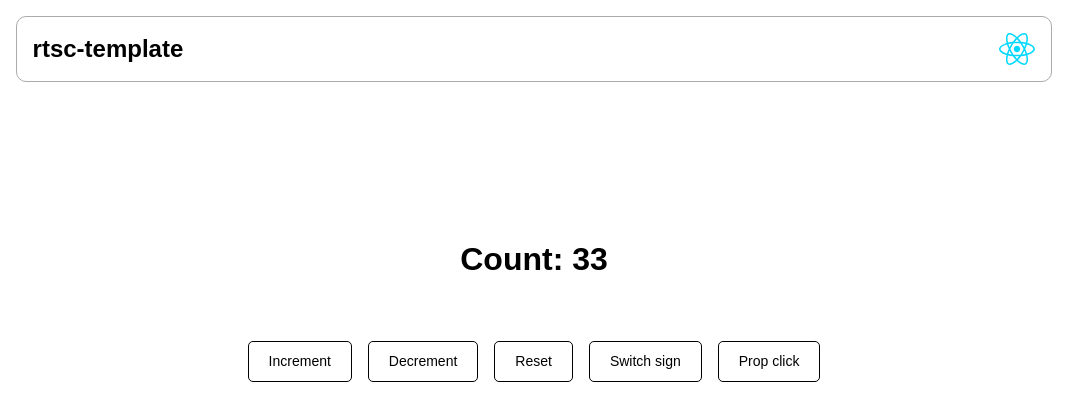
Test: Counter › Count should reset to 0 if the Reset button is clicked
The width and height of the screenshot is (1069, 399).
Check: the text with test id "count" reads "33", box [572,241,608,277]
Click the button "Reset" at (534, 361), box [494,341,573,382]
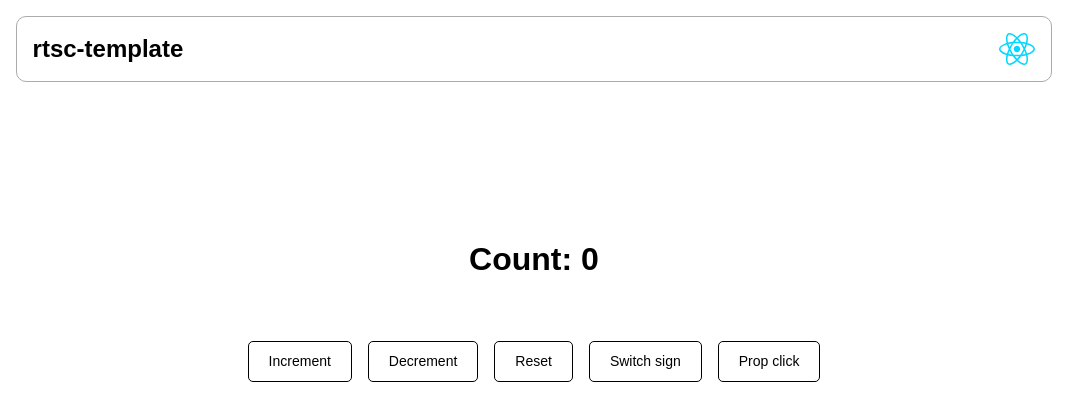
Check: the text with test id "count" reads "0", box [581,241,599,277]
